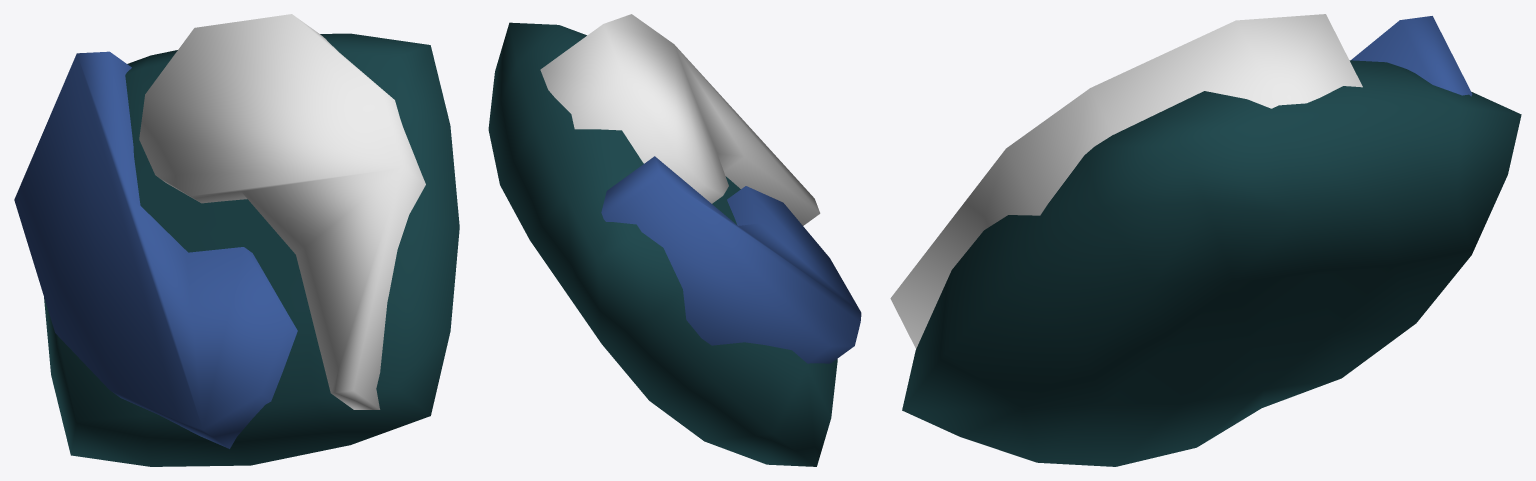
The model's file is Bad Food 1.fbx.
The picture shows the model from 3 angles, left to right: view 1: azimuth 30°, elevation 25°; view 2: azimuth 150°, elevation 25°; view 3: azimuth 270°, elevation 25°; orthographic projection. The views are drawn at different scales.
Parts seen in each view (by area): view 1: Bad Food_001; view 2: Bad Food_001; view 3: Bad Food_001.
Boxes of the visible parts, x1,y1,x2,y2 form: Bad Food_001: (14,14,459,466); Bad Food_001: (488,14,861,466); Bad Food_001: (890,14,1521,466).
Bounding box in the file's own units: 10.59 × 11.34 × 12.99.
